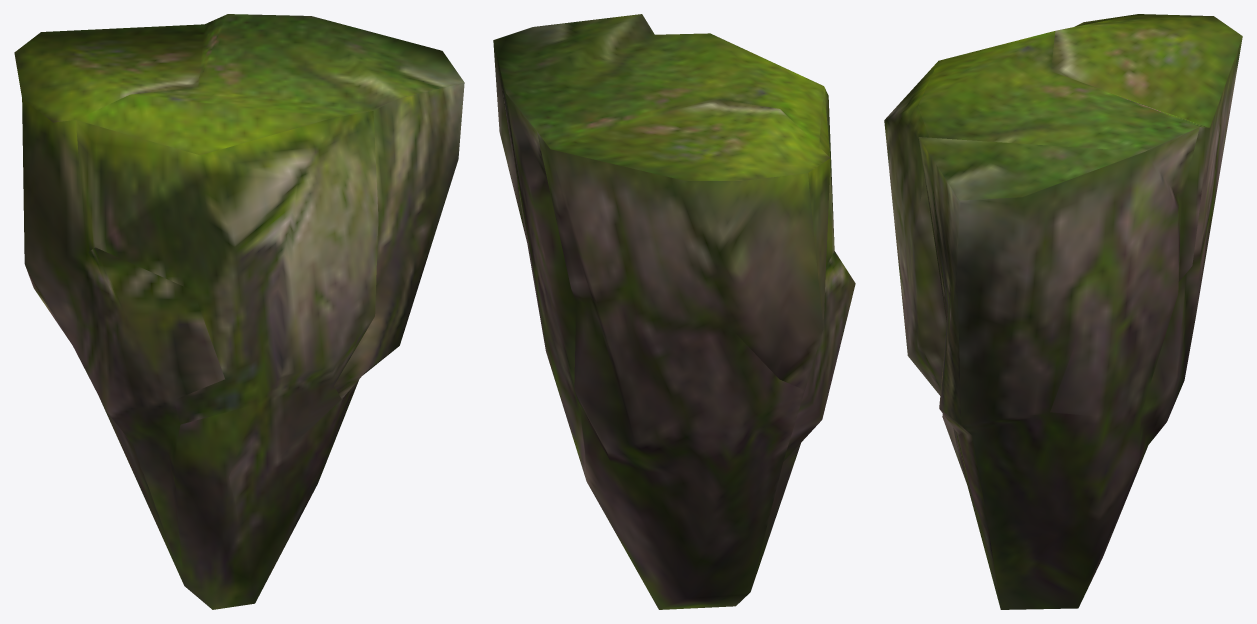
The model's file is S_Rock_Green013_1060_1.FBX.
3 renders of one model, left to right at view 1: azimuth 30°, elevation 25°; view 2: azimuth 150°, elevation 25°; view 3: azimuth 270°, elevation 25°, orthographic. The views are drawn at different scales.
Visible parts, largest first — view 1: S_Rock_Green013_1060_1; view 2: S_Rock_Green013_1060_1; view 3: S_Rock_Green013_1060_1.
Part boxes in pixels (x1,y1,x2,y2): S_Rock_Green013_1060_1: (14,14,464,609); S_Rock_Green013_1060_1: (493,14,855,609); S_Rock_Green013_1060_1: (884,14,1242,609).
Bounding box in the file's own units: 438 × 584 × 356.
1 material, 1 textured.
